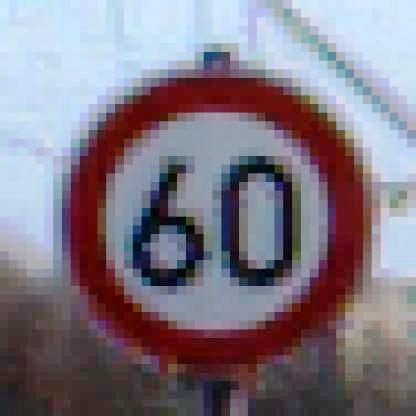Speed Limit -60-: (60, 63, 382, 376)
